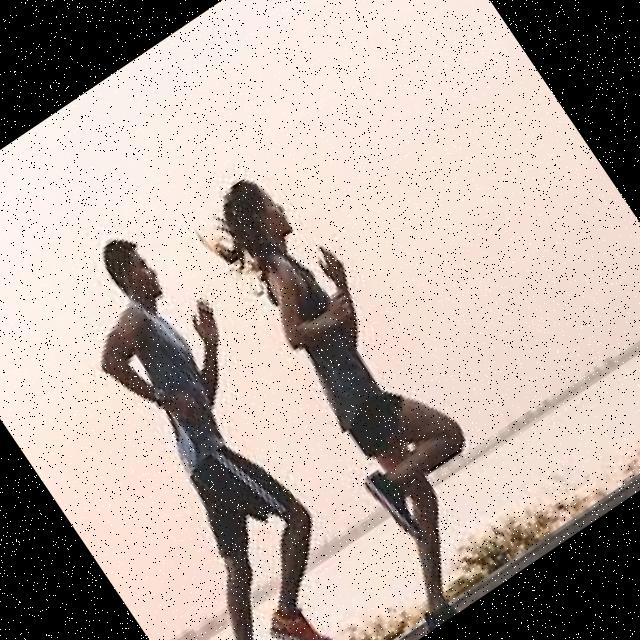Person: (158, 154, 548, 634), (0, 211, 432, 640)
